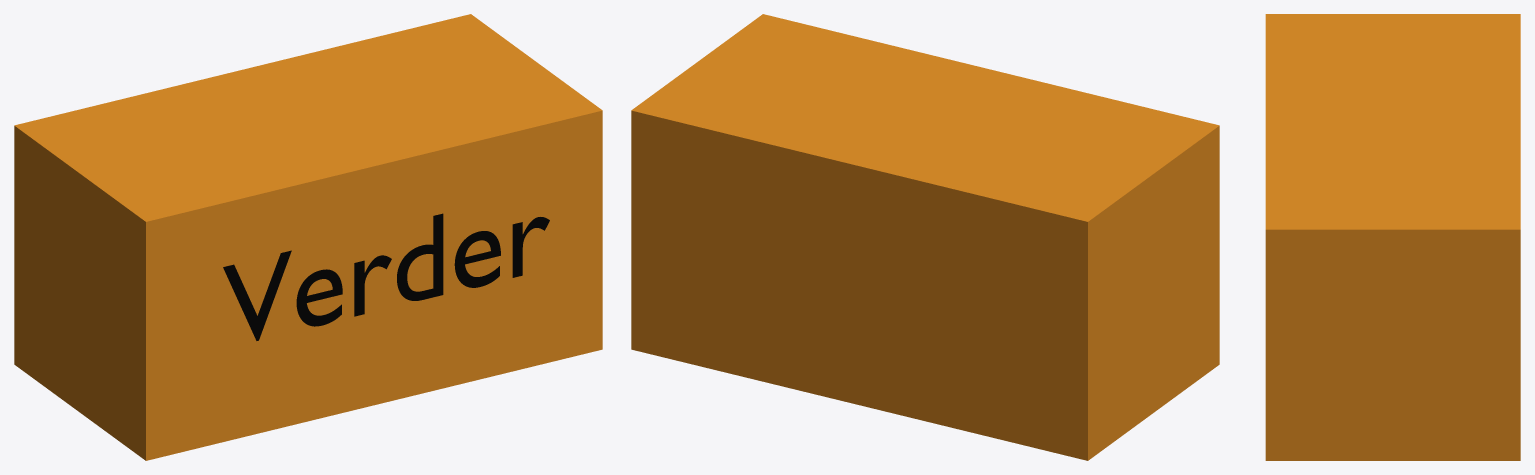
File: TutorialButton.gltf
3 renders of one model, left to right at view 1: azimuth 30°, elevation 25°; view 2: azimuth 150°, elevation 25°; view 3: azimuth 270°, elevation 25°, orthographic. The views are drawn at different scales.
Visible parts, largest first — view 1: start 1, Text.002; view 2: start 1; view 3: start 1.
Boxes of the visible parts, x1=… form: start 1: x1=14, y1=14, x2=602, y2=460; Text.002: x1=223, y1=213, x2=549, y2=340; start 1: x1=631, y1=14, x2=1219, y2=460; start 1: x1=1265, y1=14, x2=1520, y2=460.
Size of the model in its own units: 0.4 by 0.2 by 0.2137.
